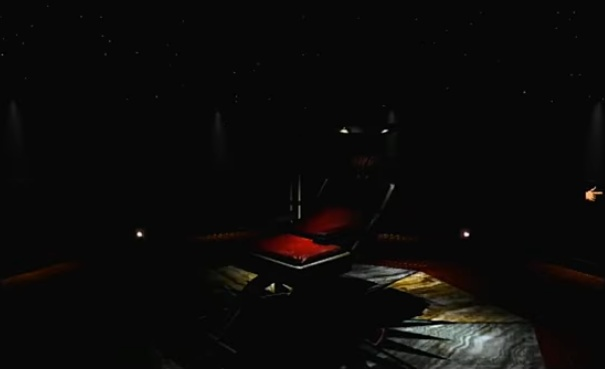Pointer: (582, 182, 604, 204)
